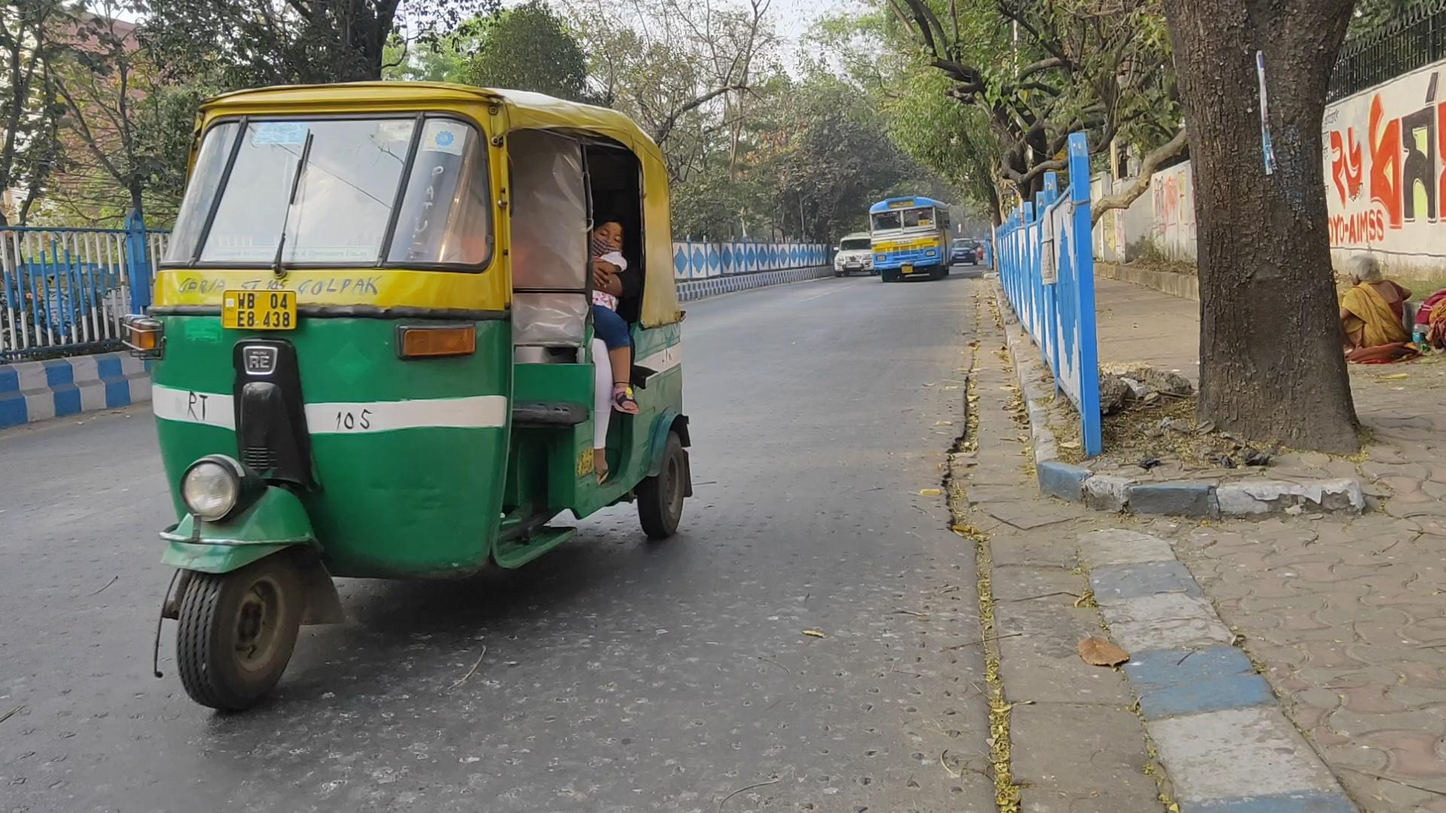Auto: (122, 79, 694, 713)
Bus: (868, 195, 953, 282)
car: (833, 232, 882, 278), (949, 237, 979, 267)
